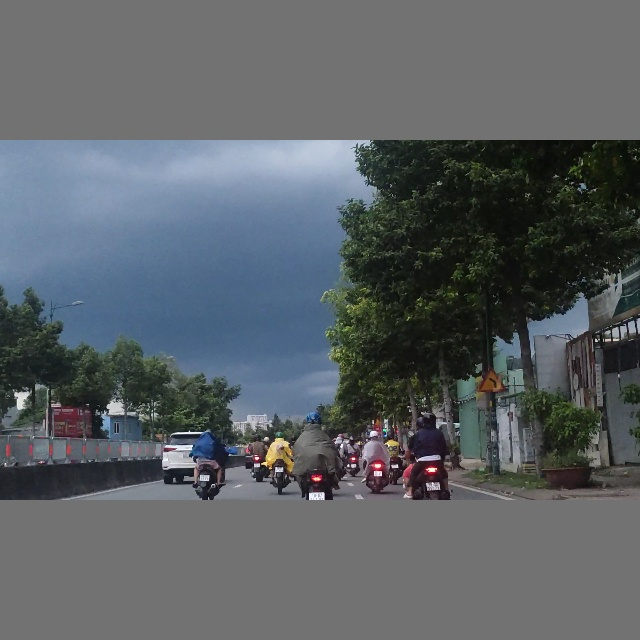W.201a: (477, 367, 508, 392)
